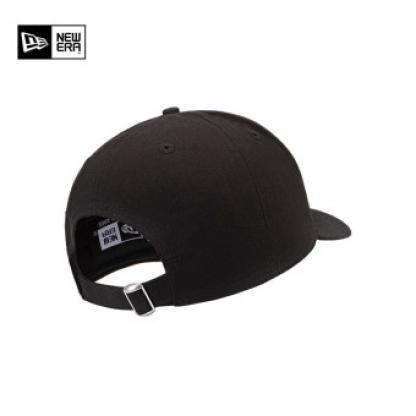cap: (47, 96, 356, 316)
